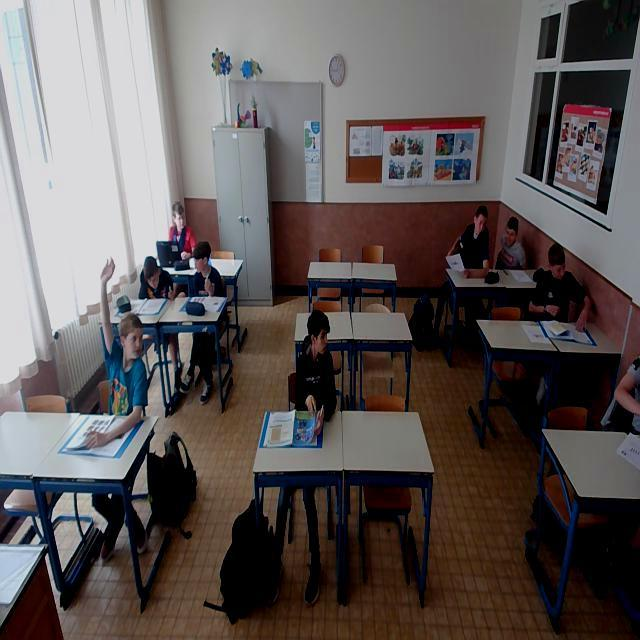Looking away: (293, 306, 346, 424), (187, 240, 214, 279), (163, 200, 192, 235), (547, 240, 571, 281), (503, 211, 522, 253), (467, 209, 486, 243), (146, 257, 166, 286)
Raising hand: (95, 250, 140, 463)
